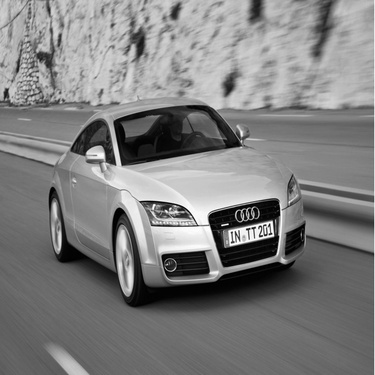car: (41, 92, 313, 309)
